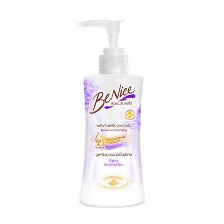cleaning_solution: (70, 15, 149, 211)
